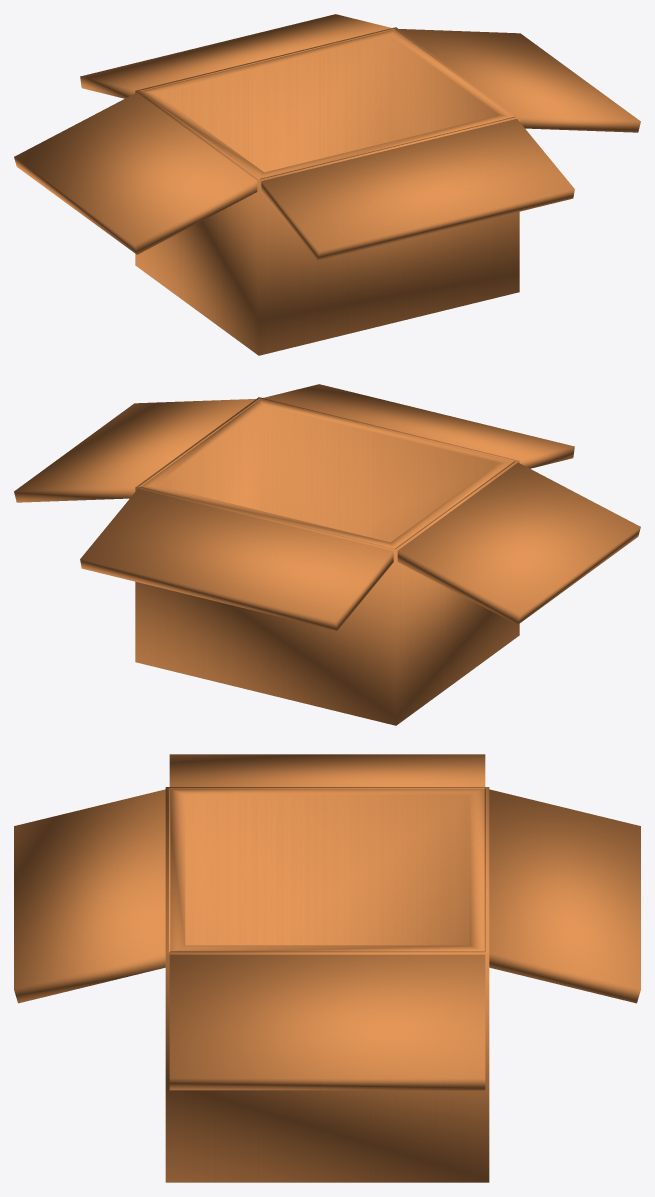
The model's file is caja.glb.
3 renders of one model, top to bottom at view 1: azimuth 30°, elevation 25°; view 2: azimuth 150°, elevation 25°; view 3: azimuth 270°, elevation 25°, orthographic. The views are drawn at different scales.
Parts seen in each view (by area): view 1: Caja_Cuerpo, Caja_SolapaFrente, Caja_SolapaIzq, Caja_SolapaDer, Caja_SolapaAtras; view 2: Caja_Cuerpo, Caja_SolapaAtras, Caja_SolapaIzq, Caja_SolapaDer, Caja_SolapaFrente; view 3: Caja_Cuerpo, Caja_SolapaDer, Caja_SolapaFrente, Caja_SolapaAtras, Caja_SolapaIzq.
Part boxes in pixels (x1,y1,x2,y2): Caja_Cuerpo: [135, 27, 519, 355]; Caja_SolapaFrente: [260, 116, 574, 260]; Caja_SolapaIzq: [14, 91, 259, 254]; Caja_SolapaDer: [395, 29, 640, 132]; Caja_SolapaAtras: [80, 14, 394, 98]; Caja_Cuerpo: [135, 397, 519, 725]; Caja_SolapaAtras: [80, 486, 394, 630]; Caja_SolapaIzq: [395, 461, 640, 624]; Caja_SolapaDer: [14, 399, 259, 502]; Caja_SolapaFrente: [260, 384, 574, 468]; Caja_Cuerpo: [165, 787, 489, 1182]; Caja_SolapaDer: [169, 951, 485, 1090]; Caja_SolapaFrente: [14, 788, 170, 1003]; Caja_SolapaAtras: [484, 788, 640, 1003]; Caja_SolapaIzq: [169, 754, 485, 788].
Bounding box in the file's own units: 194 × 64.1 × 159.
Materials: 1 (1 with a texture image).
